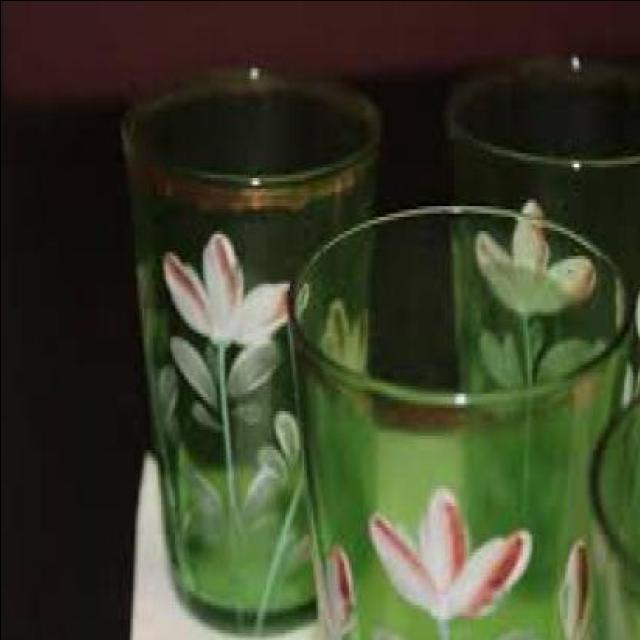kaca: (290, 199, 634, 640), (122, 64, 386, 626), (450, 50, 640, 463), (589, 391, 640, 639)
